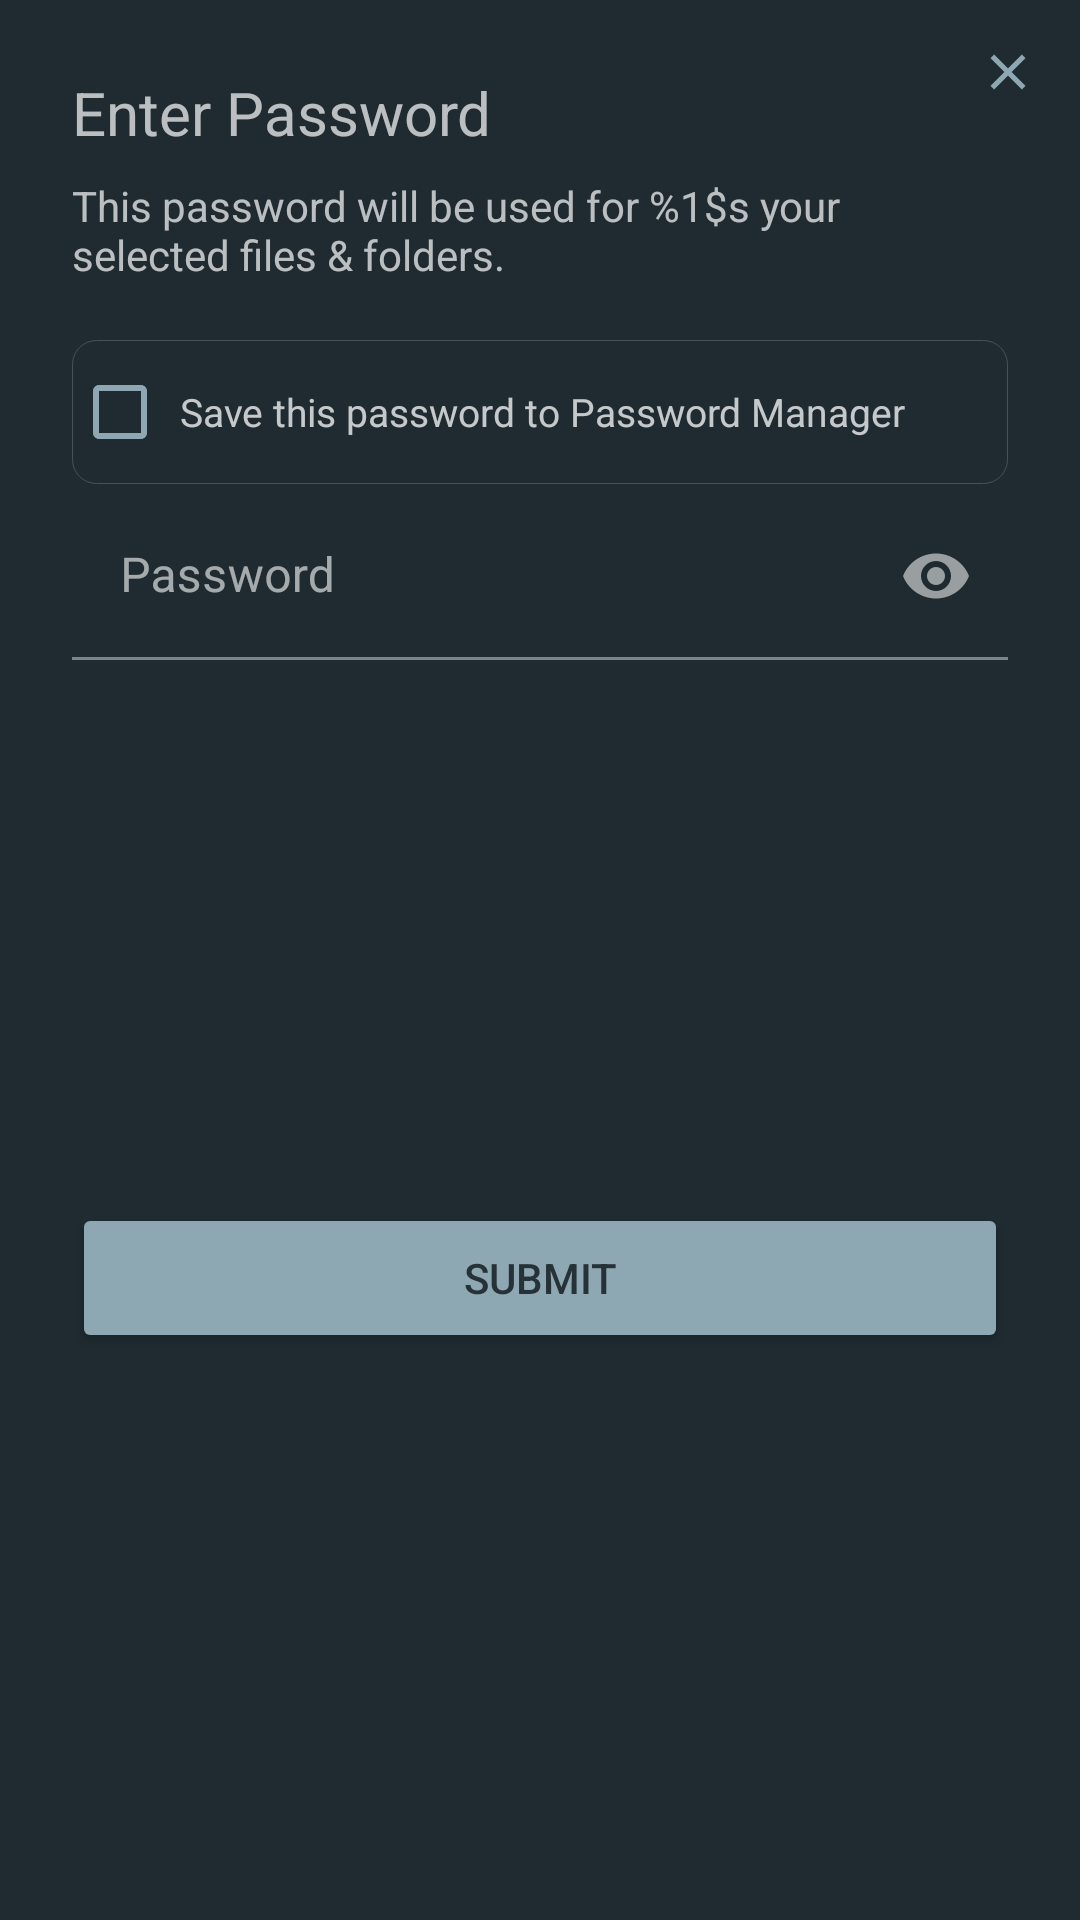

Screen size 1080x1920. Icon name, then its center in pixels as (x=x, y=y):
Cancel: (x=1008, y=72)
